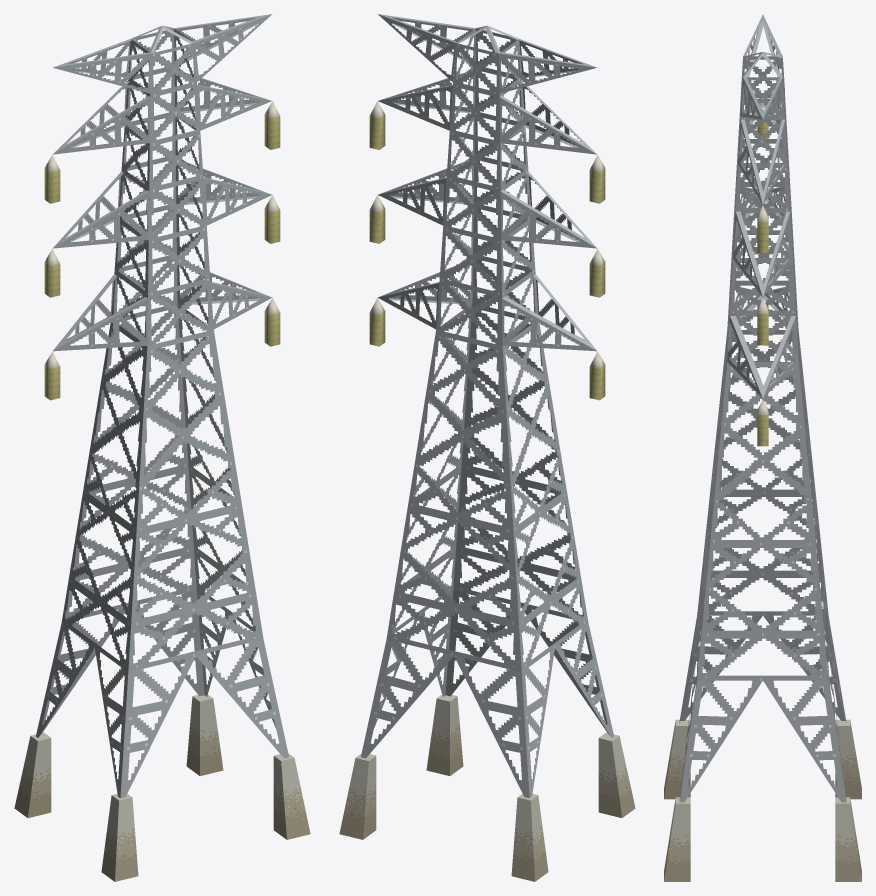
File: 02b6_Steel_Tower.glb
3 views of the same model, side by side, from view 1: azimuth 30°, elevation 25°; view 2: azimuth 150°, elevation 25°; view 3: azimuth 270°, elevation 25° (orthographic).
Visible parts, largest first — view 1: part_0; view 2: part_0; view 3: part_0.
Part boxes in pixels (x1,y1,x2,y2): part_0: (14, 14, 310, 881); part_0: (339, 14, 635, 881); part_0: (664, 14, 861, 881).
Size of the model in its own units: 5.5 by 18.17 by 4.16.
1 material, 1 textured.
